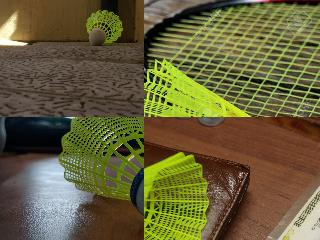shuttlecock: (58, 117, 143, 226), (144, 58, 295, 116), (144, 151, 209, 239), (86, 10, 122, 44)
